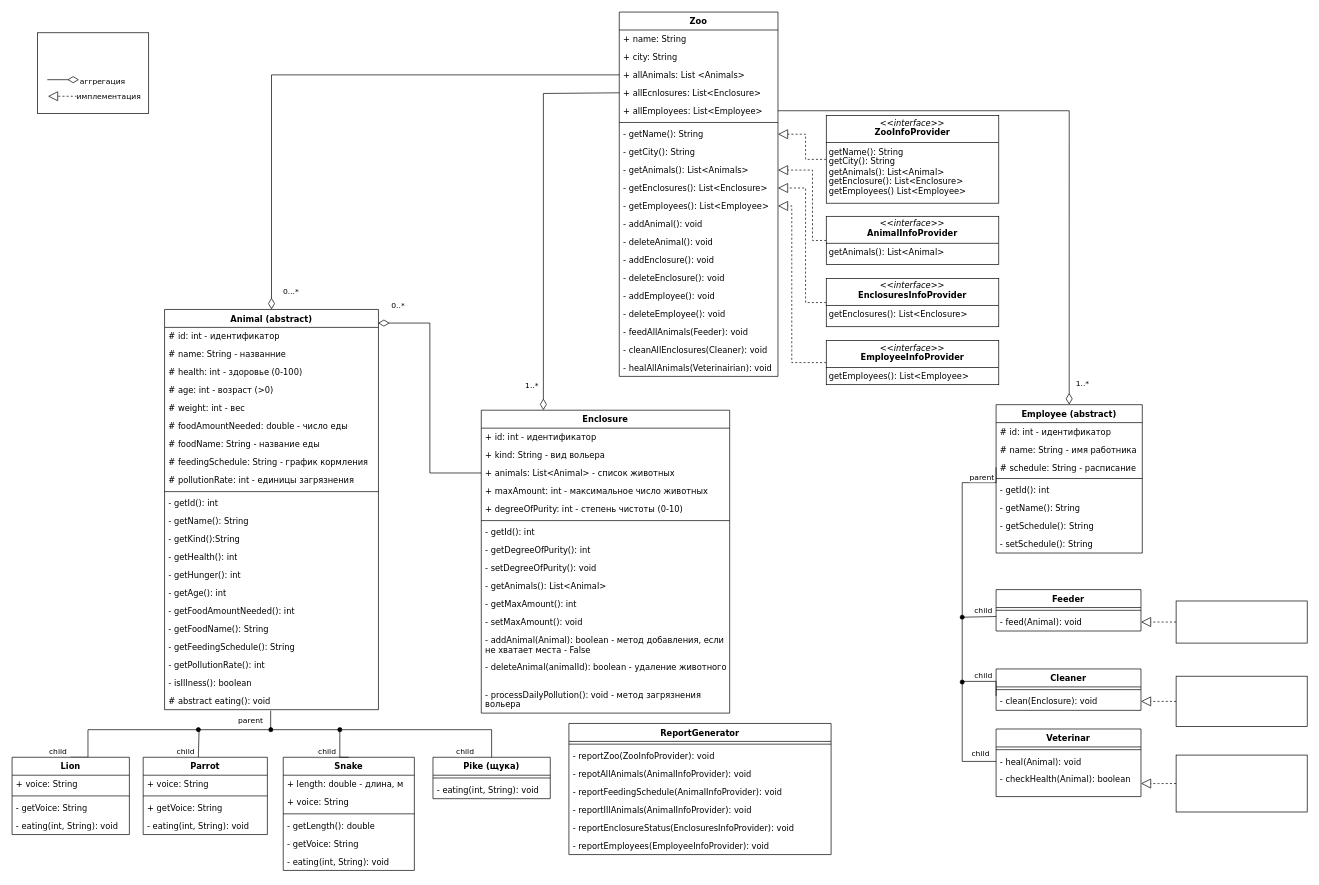
This 1319x885 diagram has some shape labels left out. The shapes that lost their labels are listed below. From the top down, each one's centre as x and y in pixels, then its label:
At (93,73): "+ private - public # protected".
At (1241,621): "<<interface>> Feedable feed(Animal): void".
At (1241,701): "<<interface>> Cleanable clean(Enclosure): void".
At (1241,783): "<<interface>> Healable heal(Animal): void checkHealth(Animal): boolean".
